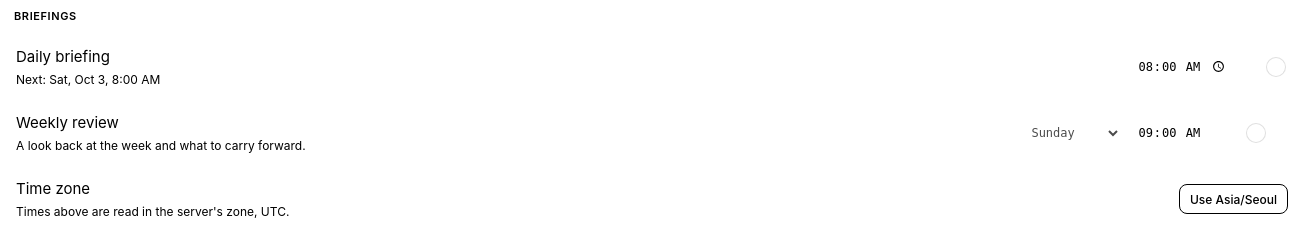
Test: Briefing schedule settings › offers the device zone when the server reads times elsewhere
Click the button "Use Asia/Seoul".
click(1233, 199)  # box [1179,184,1288,214]
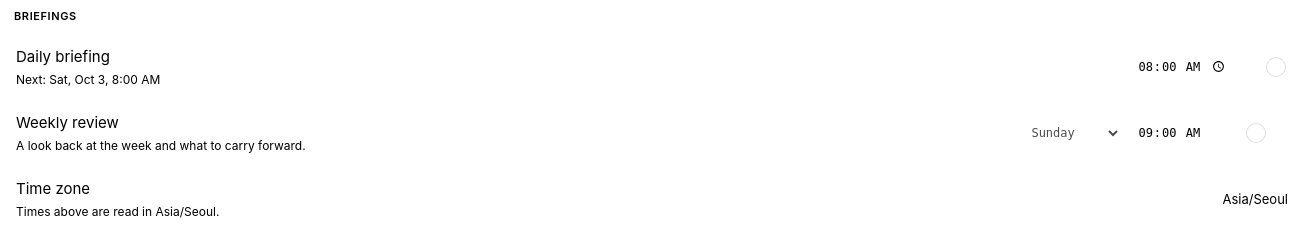
Expected: the button "Use Asia/Seoul" is gone
Expected: the text "Times above are read in Asia/Seoul." is shown, [16,202,219,221]
